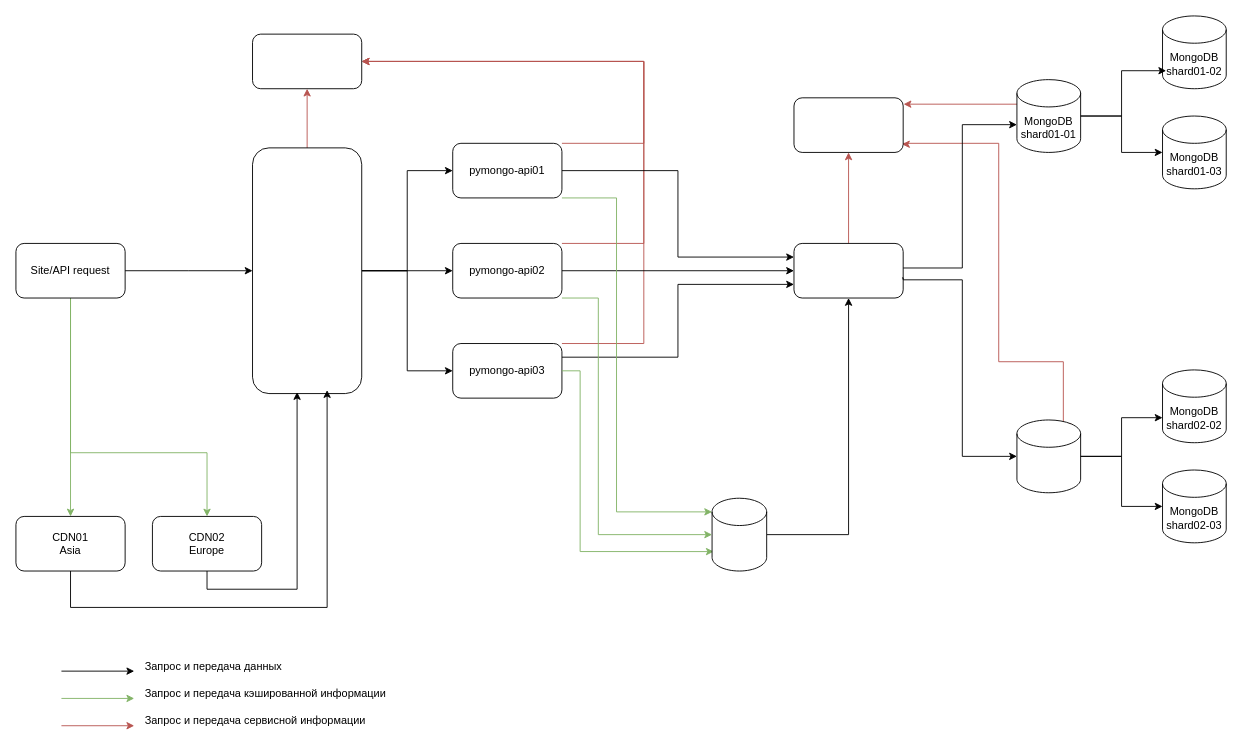
Some shapes in this 1242 by 751 pixel diagram are drawn without their labels. The shapes that lost their labels are listed below. From the top down, each one's centre as x and y in pixels, then its label:
At (307,61): "consul01".
At (848,124): "MongoDB configSrv01".
At (307,270): "API Gateway".
At (848,270): "MongoDB router01".
At (1048,456): "MongoDB shard02-01".
At (739,534): "redis01".
